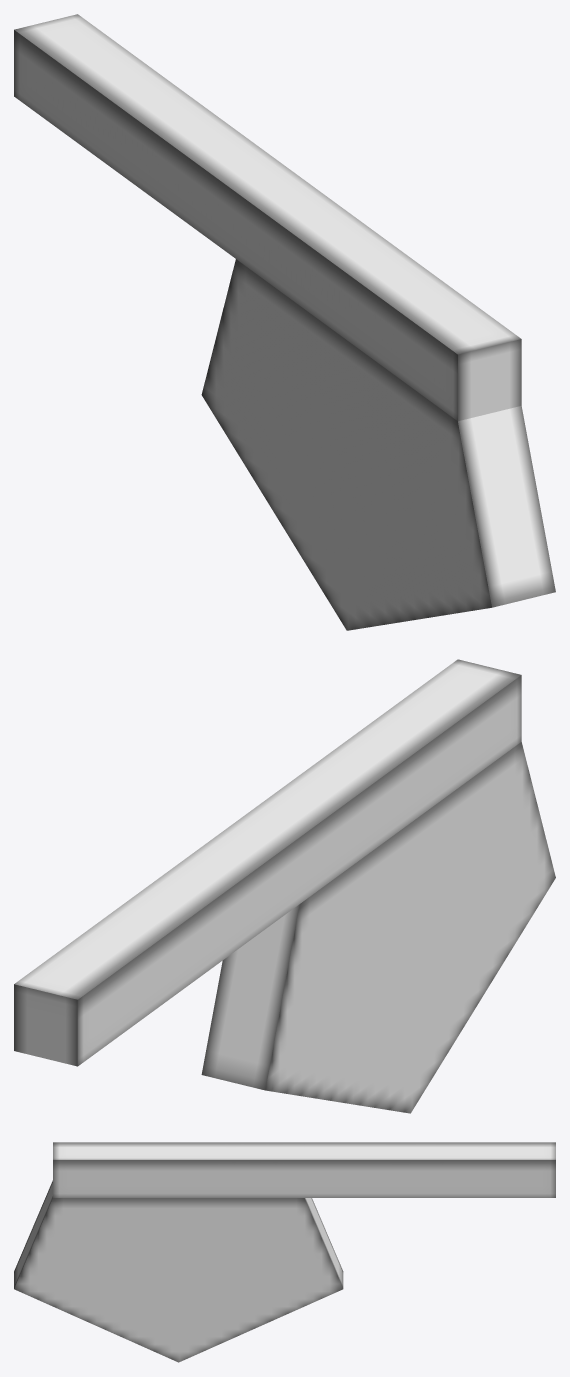
File: Axe-01.fbx
3 renders of one model, top to bottom at view 1: azimuth 30°, elevation 25°; view 2: azimuth 150°, elevation 25°; view 3: azimuth 270°, elevation 25°, orthographic. The views are drawn at different scales.
Visible parts, largest first — view 1: Axe_01; view 2: Axe_01; view 3: Axe_01.
Boxes of the visible parts, bbox=[...] form: Axe_01: bbox=[14, 14, 555, 630]; Axe_01: bbox=[14, 659, 555, 1113]; Axe_01: bbox=[14, 1142, 555, 1362].
Size of the model in its own units: 0.0366 by 0.196 by 0.4751.
